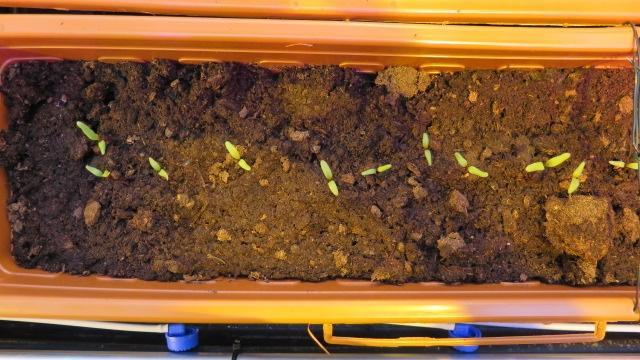crop: (72, 118, 109, 155), (519, 148, 573, 172), (218, 138, 255, 171), (450, 149, 492, 177), (317, 157, 342, 197), (564, 158, 587, 195), (144, 154, 171, 182), (416, 130, 435, 165), (81, 162, 113, 178), (358, 162, 393, 175)
